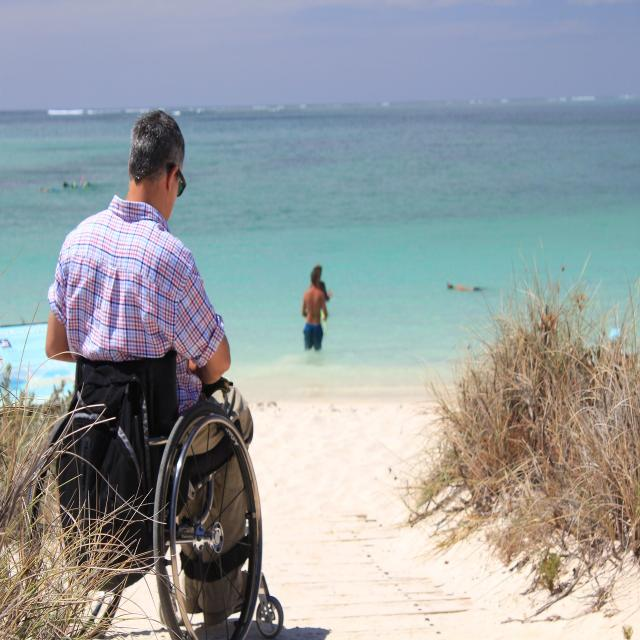wheelchairs: (15, 319, 289, 640)
